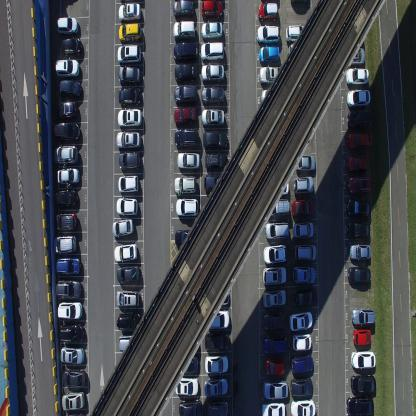car: (346, 394, 374, 416), (346, 130, 373, 152), (52, 121, 81, 141), (262, 378, 288, 400), (117, 107, 142, 129), (288, 310, 313, 332), (53, 144, 78, 166), (116, 312, 143, 332), (173, 18, 196, 41), (263, 242, 287, 264), (174, 84, 198, 106), (56, 14, 80, 36), (204, 375, 228, 397), (206, 309, 231, 330), (202, 130, 228, 150), (350, 374, 376, 394), (264, 197, 290, 217), (258, 65, 284, 85), (172, 41, 198, 61), (55, 279, 81, 299), (295, 286, 318, 308), (174, 61, 197, 83), (118, 64, 141, 86), (114, 242, 138, 263), (347, 108, 371, 129), (205, 353, 229, 374), (173, 173, 197, 194), (173, 105, 197, 126), (200, 63, 224, 84), (200, 41, 224, 62), (174, 128, 199, 148), (351, 307, 376, 327), (346, 88, 371, 108), (262, 265, 287, 285), (260, 88, 285, 108), (116, 44, 141, 64), (54, 58, 79, 78), (346, 198, 372, 217), (350, 350, 376, 369), (340, 47, 366, 66), (174, 228, 200, 247), (57, 301, 83, 320), (59, 324, 85, 343), (200, 20, 223, 41), (118, 2, 141, 23), (119, 22, 142, 43), (291, 353, 314, 374), (116, 264, 140, 284), (285, 24, 309, 44), (262, 288, 286, 308), (290, 197, 314, 217), (256, 24, 280, 44), (175, 197, 199, 217), (52, 234, 76, 254), (263, 335, 287, 355), (61, 390, 85, 410), (115, 131, 140, 150), (176, 151, 201, 170), (53, 212, 78, 231), (174, 377, 199, 396), (204, 332, 230, 350), (55, 256, 81, 274), (53, 189, 79, 207), (118, 150, 140, 171), (201, 86, 224, 106), (294, 242, 317, 262), (118, 86, 141, 106), (204, 173, 228, 192), (176, 335, 200, 354), (206, 287, 230, 306), (201, 108, 225, 127), (292, 265, 316, 284), (116, 289, 140, 308), (346, 220, 370, 239), (347, 265, 371, 284), (345, 67, 369, 86), (262, 311, 286, 330), (62, 368, 86, 387), (290, 398, 315, 416), (57, 100, 78, 121), (346, 154, 368, 174), (258, 45, 280, 65), (112, 217, 134, 237), (116, 196, 138, 216), (205, 151, 228, 170), (200, 0, 223, 19), (59, 80, 82, 99), (290, 376, 313, 395), (348, 176, 372, 194), (118, 334, 142, 352), (265, 221, 289, 239), (60, 346, 84, 364), (56, 167, 80, 185), (178, 398, 202, 416), (293, 175, 314, 195), (258, 1, 278, 22), (266, 177, 289, 195), (172, 0, 195, 18), (206, 397, 229, 415), (292, 332, 312, 352), (62, 37, 82, 57), (118, 174, 139, 193), (294, 154, 315, 173), (264, 356, 285, 375), (292, 221, 314, 239), (349, 243, 371, 261), (176, 356, 198, 373), (261, 402, 286, 416), (353, 328, 371, 346)
